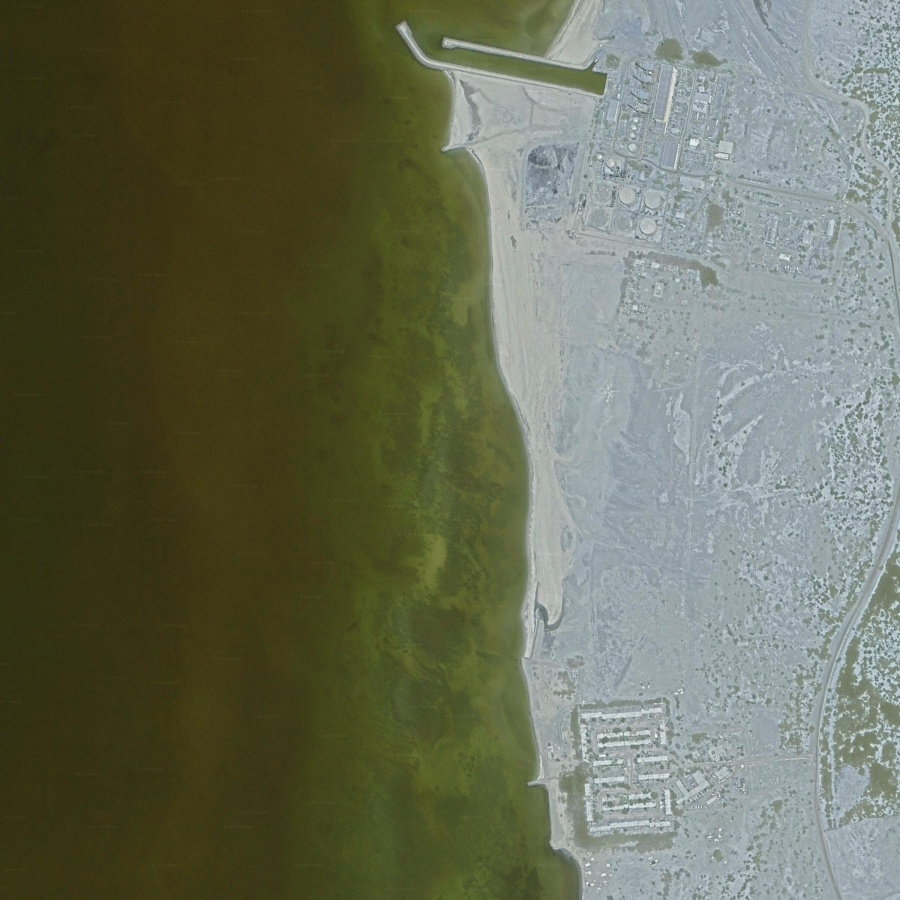PowerPlant: (514, 50, 742, 253)
